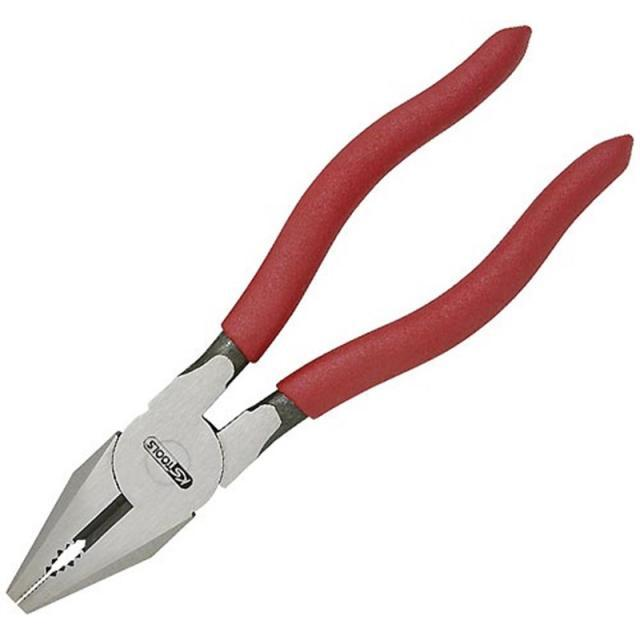pliers: (4, 19, 638, 617)
